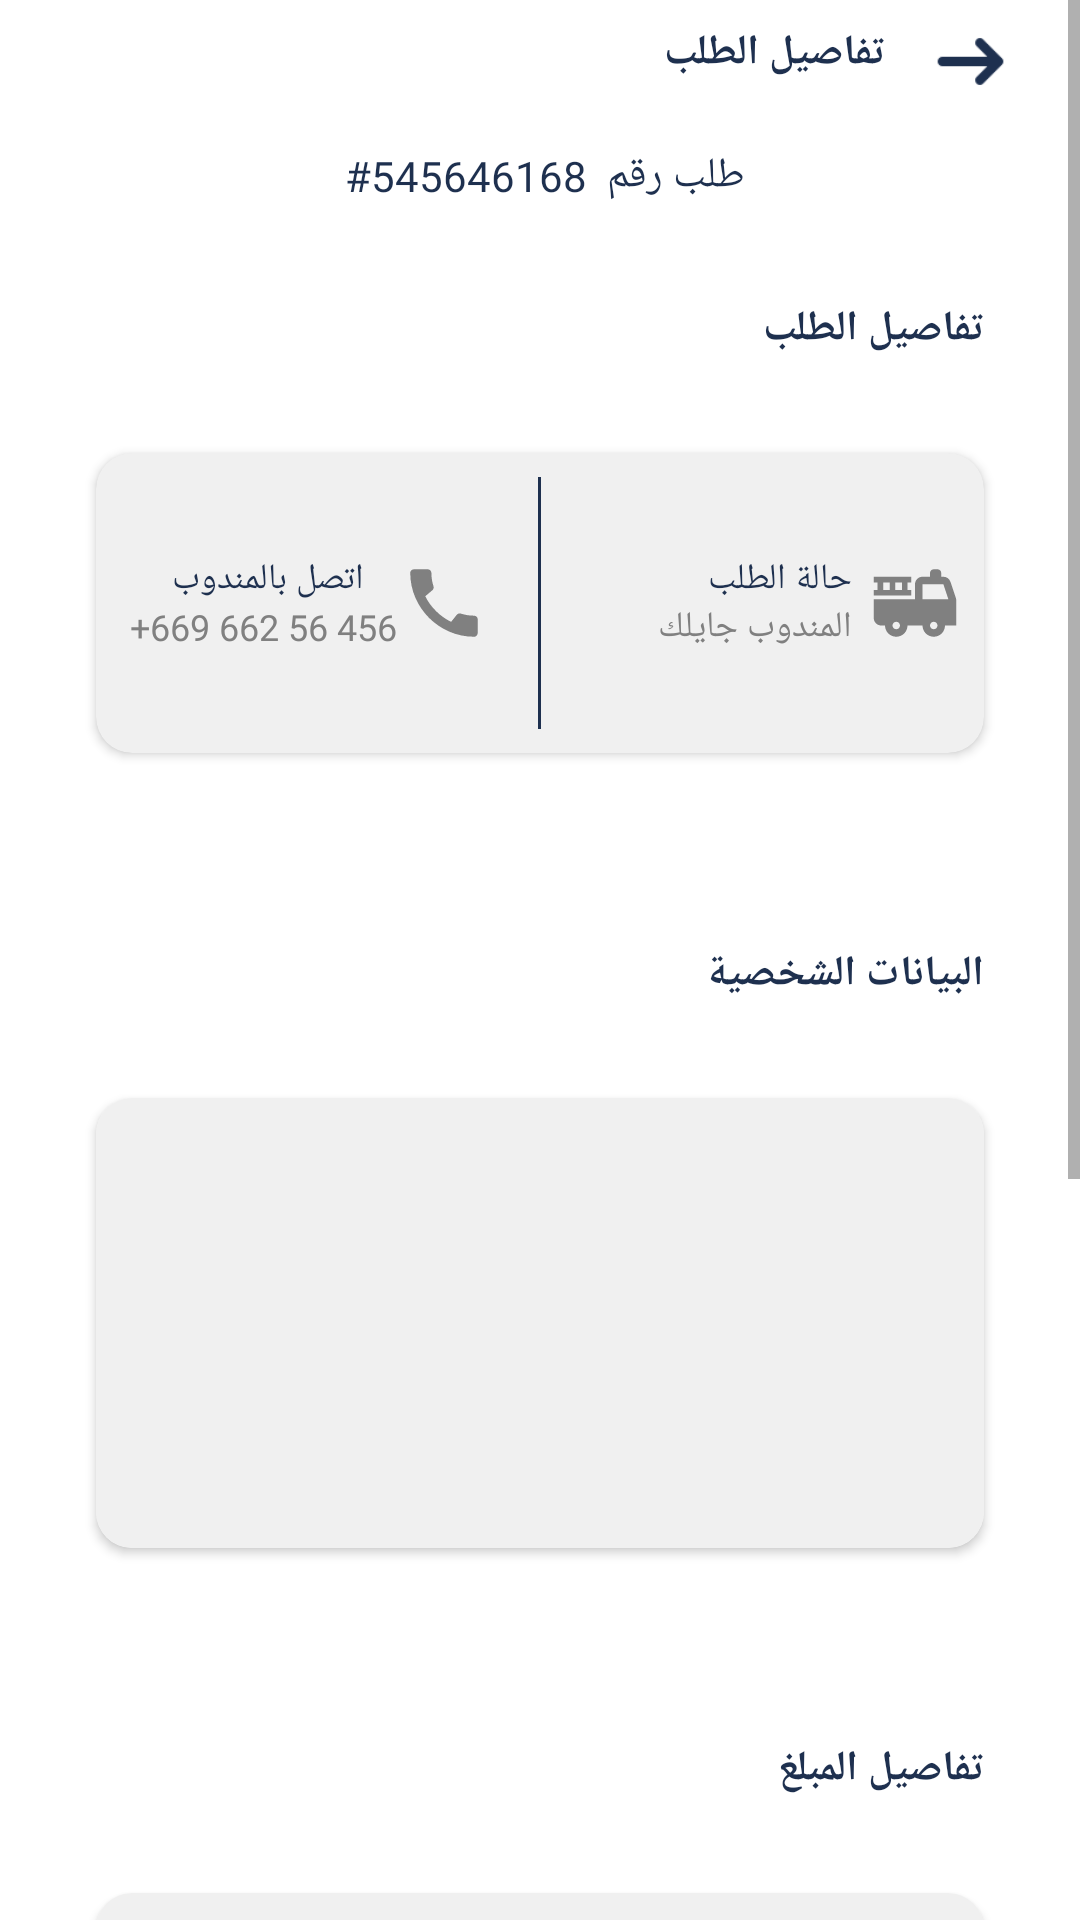

Point at icon controls on the screen. Image size 1080 x 1920, points as (x,y).
back: (970,61)
call: (444,603)
truck: (915,603)
